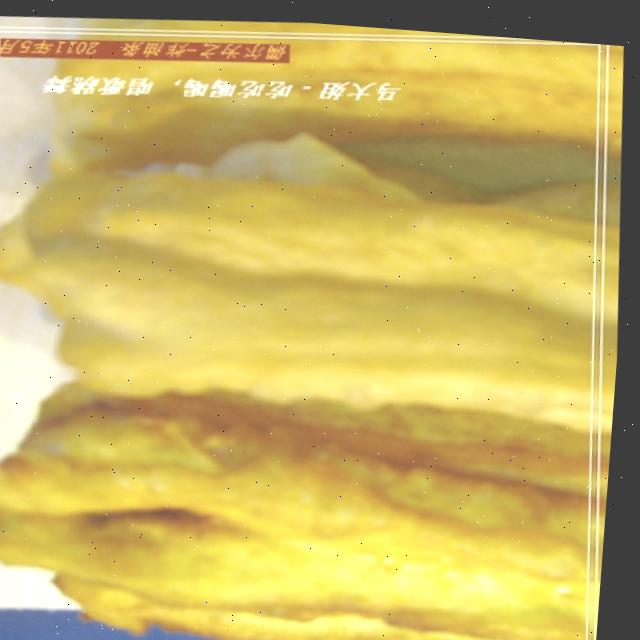炸货点心: (0, 4, 638, 640)
